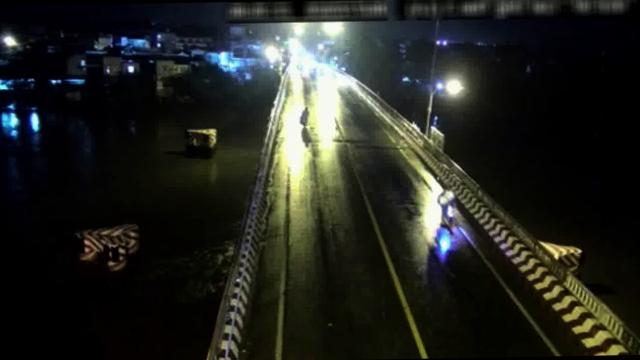Bike: (438, 188, 460, 228), (298, 106, 312, 125)
